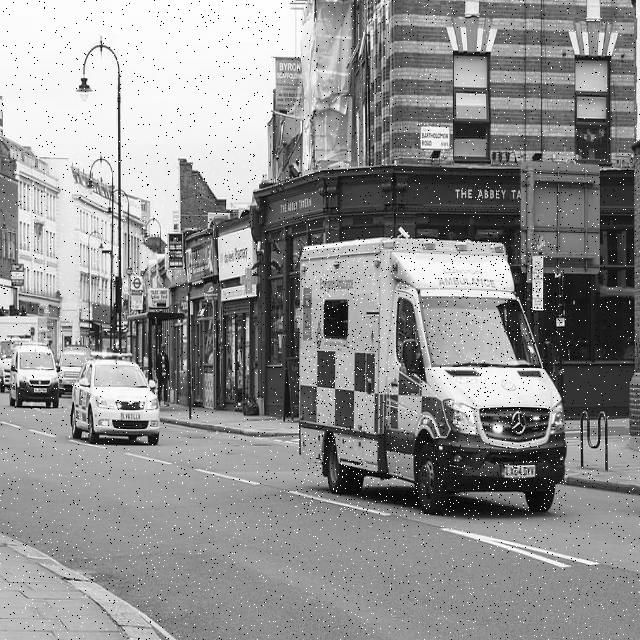Ambulance: (295, 237, 566, 515)
